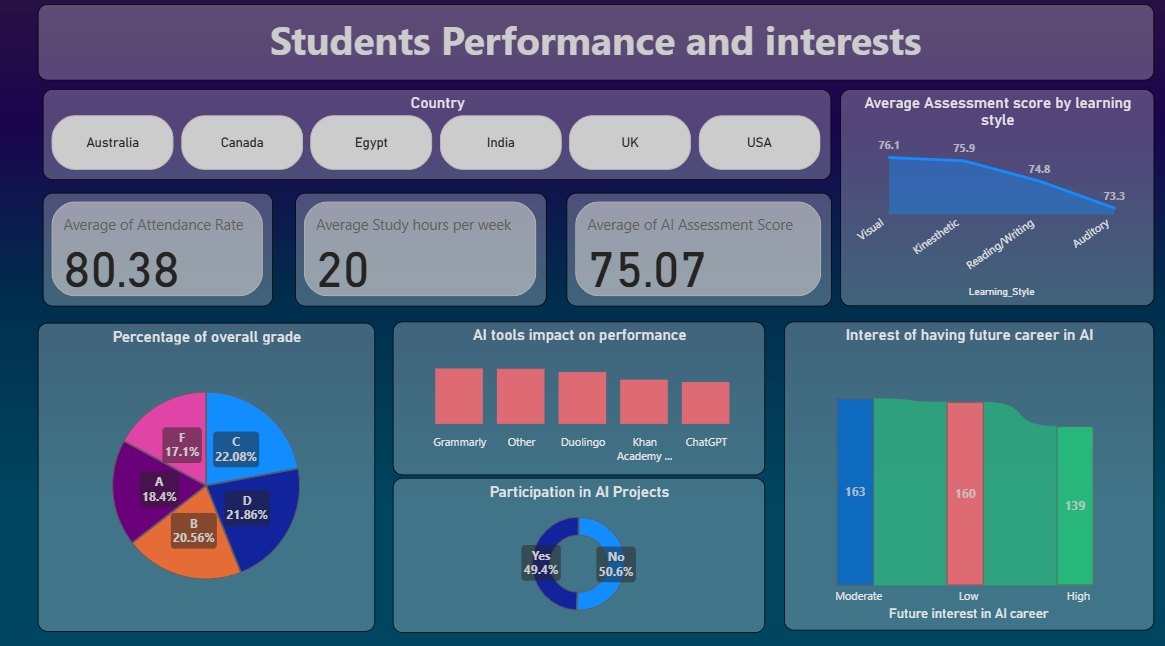

Layout of this report page (visuals, bound fields, positions):
{"tool":"powerbi","page":{"name":"PROJECT AND CAREER INTERESTS","canvas":[1280,720],"ordinal":1},"visuals":[{"type":"donutChart","title":"Participation in AI Projects","fields":{"Category":["Data (3).Participation_in_AI_Projects"],"Y":["CountNonNull(Data (3).Student_ID)"]},"box":[432.2,531,408.9,170.2],"z":0},{"type":"ribbonChart","title":"Interest of having future career in AI","fields":{"Category":["Data (3).Future_Interest_in_AI_Career"],"Y":["CountNonNull(Data (3).Student_ID)"]},"box":[861.8,359.5,406.2,338.9],"z":1000},{"type":"advancedSlicerVisual","fields":{"Values":["Data (3).Country"]},"box":[48,104.3,865.9,100.2],"z":2000},{"type":"pieChart","title":"Percentage of overall grade","fields":{"Series":["Data (3).Overall_Grade"],"Y":["CountNonNull(Data (3).Student_ID)"],"Category":["Data (3).Overall_Grade"]},"box":[42.5,360.9,370.5,338.9],"z":3000},{"type":"cardVisual","fields":{"Data":["Avg(Data (3).Attendance_Rate)"]},"box":[48,218.2,252.5,124.9],"z":4000},{"type":"cardVisual","fields":{"Data":["Avg(Data (3).AI_Assessment_Score)"]},"box":[623,218.2,290.9,124.9],"z":5000},{"type":"textbox","box":[42.5,11,1225.4,83.7],"z":6000},{"type":"areaChart","title":"Average Assessment score by learning style","fields":{"Category":["Data (3).Learning_Style"],"Y":["Avg(Data (3).AI_Assessment_Score)"]},"box":[923.5,104.3,344.4,238.8],"z":7000},{"type":"cardVisual","fields":{"Data":["Avg(Data (3).Hours_Spent_Studying_per_Week)"]},"box":[325.2,218.2,275.8,124.9],"z":8000},{"type":"clusteredColumnChart","title":"AI tools impact on performance","fields":{"Category":["Data (3).Preferred_AI_Tool"],"Y":["Avg(Data (3).AI_Impact_on_Performance)"]},"box":[432.2,359.5,408.9,168.8],"z":9000}]}

Visuals, with their boxes in screenshot pixels (x1, y1, x2, y2), scaled from the page's 1280x720 canvas onto the 1165x646 screenshot:
"Participation in AI Projects" donutChart: [left=393, top=476, right=766, bottom=629]
"Interest of having future career in AI" ribbonChart: [left=784, top=323, right=1154, bottom=627]
advancedSlicerVisual - Data (3).Country: [left=44, top=94, right=832, bottom=183]
"Percentage of overall grade" pieChart: [left=39, top=324, right=376, bottom=628]
cardVisual - Avg(Data (3).Attendance_Rate): [left=44, top=196, right=274, bottom=308]
cardVisual - Avg(Data (3).AI_Assessment_Score): [left=567, top=196, right=832, bottom=308]
textbox: [left=39, top=10, right=1154, bottom=85]
"Average Assessment score by learning style" areaChart: [left=841, top=94, right=1154, bottom=308]
cardVisual - Avg(Data (3).Hours_Spent_Studying_per_Week): [left=296, top=196, right=547, bottom=308]
"AI tools impact on performance" clusteredColumnChart: [left=393, top=323, right=766, bottom=474]
